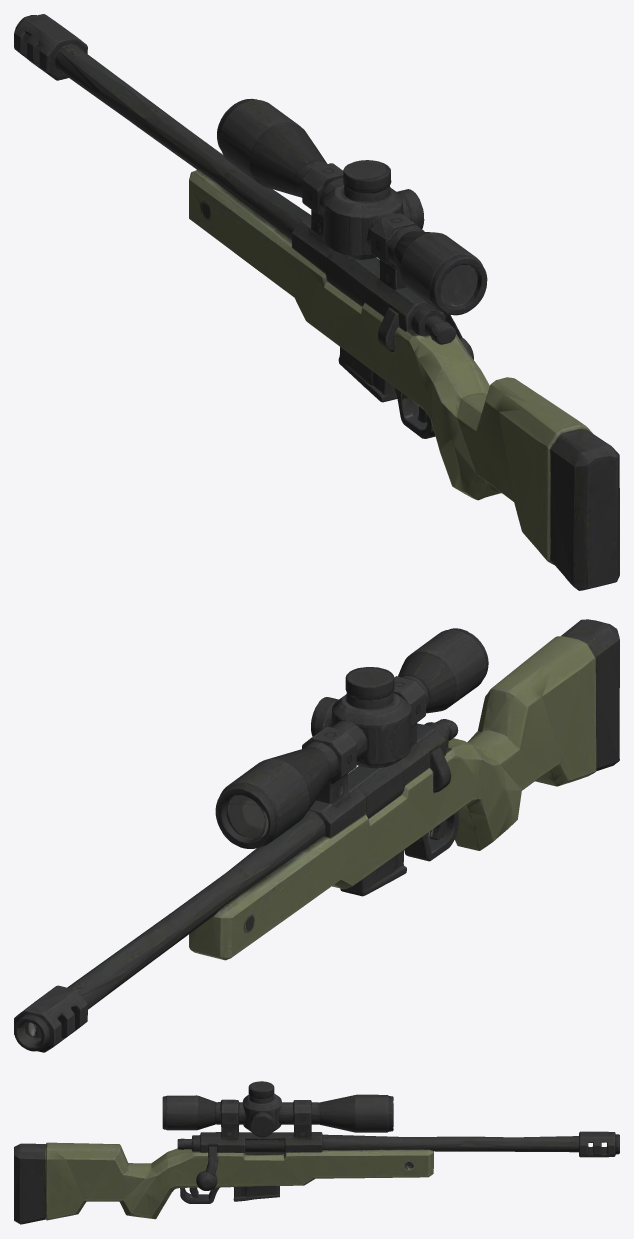
Rendered from scharf.glb.
3 renders of one model, top to bottom at view 1: azimuth 30°, elevation 25°; view 2: azimuth 150°, elevation 25°; view 3: azimuth 270°, elevation 25°, orthographic. The views are drawn at different scales.
Parts seen in each view (by area): view 1: waffe_scharf; view 2: waffe_scharf; view 3: waffe_scharf.
Part boxes in pixels (x1=…): waffe_scharf: x1=14, y1=14, x2=619, y2=590; waffe_scharf: x1=14, y1=619, x2=619, y2=1052; waffe_scharf: x1=14, y1=1081, x2=619, y2=1224.
Size of the model in its own units: 0.0989 by 0.2719 by 1.12.
1 material, 1 textured.
